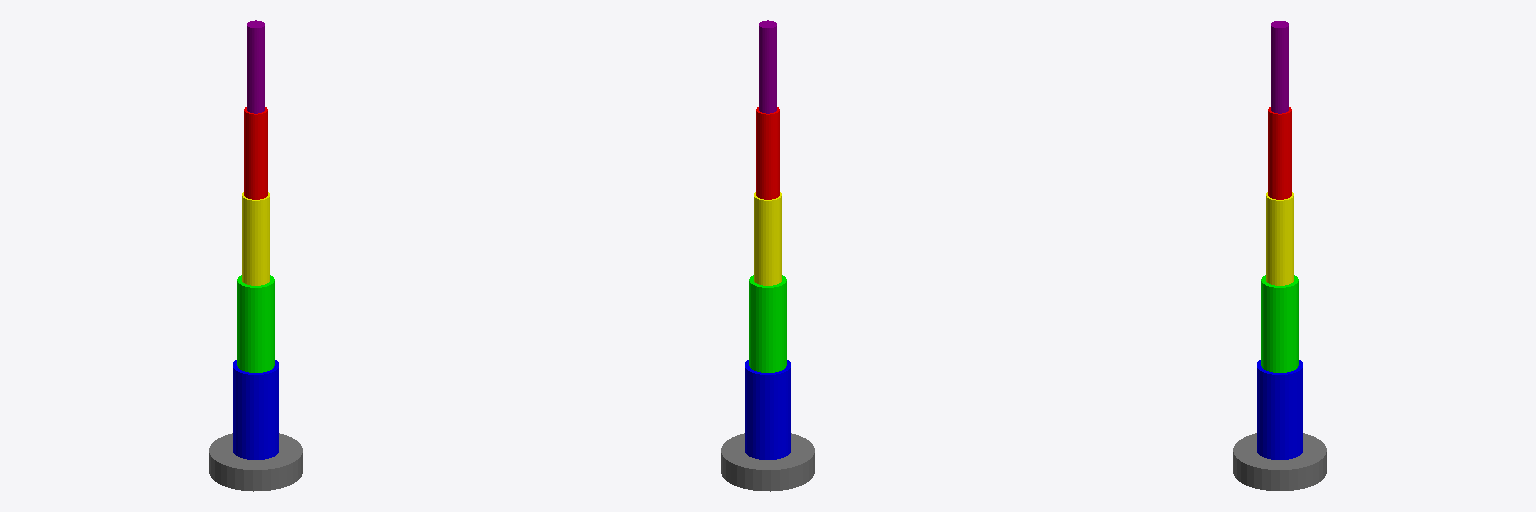
URDF robot description (robot_arm):
<robot name="robot_arm">

  <!-- Déclaration des matériaux -->
  <material name="gray">
    <color rgba="0.5 0.5 0.5 1"/>
  </material>

  <material name="blue">
    <color rgba="0 0 1 1"/>
  </material>

  <material name="green">
    <color rgba="0 1 0 1"/>
  </material>

  <material name="yellow">
    <color rgba="1 1 0 1"/>
  </material>

  <material name="red">
    <color rgba="1 0 0 1"/>
  </material>

  <material name="purple">
    <color rgba="0.6 0 0.6 1"/>
  </material>

  <!-- Base link -->
  <link name="base">
    <visual>
      <origin xyz="0 0 0" rpy="0 0 0"/>
      <geometry>
        <cylinder radius="0.1" length="0.05"/>
      </geometry>
      <material name="gray"/>
    </visual>
  </link>

  <!-- Links avec visualisation en cylindres -->
  <link name="link1">
    <visual>
      <origin xyz="0 0 0.1" rpy="0 0 0"/>
      <geometry>
        <cylinder radius="0.05" length="0.2"/>
      </geometry>
      <material name="blue"/>
    </visual>
  </link>

  <link name="link2">
    <visual>
      <origin xyz="0 0 0.1" rpy="0 0 0"/>
      <geometry>
        <cylinder radius="0.04" length="0.2"/>
      </geometry>
      <material name="green"/>
    </visual>
  </link>

  <link name="link3">
    <visual>
      <origin xyz="0 0 0.1" rpy="0 0 0"/>
      <geometry>
        <cylinder radius="0.03" length="0.2"/>
      </geometry>
      <material name="yellow"/>
    </visual>
  </link>

  <link name="link4">
    <visual>
      <origin xyz="0 0 0.1" rpy="0 0 0"/>
      <geometry>
        <cylinder radius="0.025" length="0.2"/>
      </geometry>
      <material name="red"/>
    </visual>
  </link>

  <link name="link5">
    <visual>
      <origin xyz="0 0 0.1" rpy="0 0 0"/>
      <geometry>
        <cylinder radius="0.02" length="0.2"/>
      </geometry>
      <material name="purple"/>
    </visual>
  </link>

  <!-- Joints -->
  <joint name="base_joint" type="revolute">
    <parent link="base"/>
    <child link="link1"/>
    <origin xyz="0 0 0.025" rpy="0 0 0"/>
    <axis xyz="0 0 1"/>
    <limit lower="0" upper="3.14159" effort="1" velocity="1"/>
  </joint>

  <joint name="A1_joint" type="revolute">
    <parent link="link1"/>
    <child link="link2"/>
    <origin xyz="0 0 0.2" rpy="0 0 0"/>
    <axis xyz="0 1 0"/>
    <limit lower="0" upper="3.14159" effort="1" velocity="1"/>
  </joint>

  <joint name="A2_joint" type="revolute">
    <parent link="link2"/>
    <child link="link3"/>
    <origin xyz="0 0 0.2" rpy="0 0 0"/>
    <axis xyz="0 1 0"/>
    <limit lower="0" upper="3.14159" effort="1" velocity="1"/>
  </joint>

  <joint name="A3_joint" type="revolute">
    <parent link="link3"/>
    <child link="link4"/>
    <origin xyz="0 0 0.2" rpy="0 0 0"/>
    <axis xyz="0 1 0"/>
    <limit lower="0" upper="3.14159" effort="1" velocity="1"/>
  </joint>

  <joint name="A4_joint" type="revolute">
    <parent link="link4"/>
    <child link="link5"/>
    <origin xyz="0 0 0.2" rpy="0 0 0"/>
    <axis xyz="0 1 0"/>
    <limit lower="0" upper="3.14159" effort="1" velocity="1"/>
  </joint>

</robot>

--- Render facts (derived) ---
3 views of the same robot in one strip: view 1: azimuth 30°, elevation 25°; view 2: azimuth 150°, elevation 25°; view 3: azimuth 270°, elevation 25° (orthographic).
Model robot_arm with 6 links and 5 joints (5 revolute), rooted at base, posed every joint at zero.
Links seen in each view (by area): view 1: link1, base, link2, link3, link4, link5; view 2: link1, base, link2, link3, link4, link5; view 3: link1, base, link2, link3, link4, link5.
Boxes of the visible links, x1,y1,x2,y2 form: link1: [233, 360, 278, 459]; base: [209, 433, 302, 491]; link2: [237, 275, 274, 372]; link3: [242, 192, 269, 285]; link4: [244, 107, 267, 199]; link5: [247, 20, 264, 113]; link1: [745, 360, 790, 459]; base: [721, 433, 814, 491]; link2: [749, 275, 786, 372]; link3: [754, 192, 781, 285]; link4: [756, 107, 779, 199]; link5: [759, 20, 776, 113]; link1: [1257, 360, 1302, 459]; base: [1233, 433, 1326, 490]; link2: [1261, 275, 1298, 372]; link3: [1266, 192, 1293, 285]; link4: [1268, 107, 1291, 199]; link5: [1271, 21, 1288, 113].
Size in the robot's own frame: 0.2 by 0.2 by 1.05 metres.
Geometry: primitives only (box / cylinder / sphere), no mesh files.
